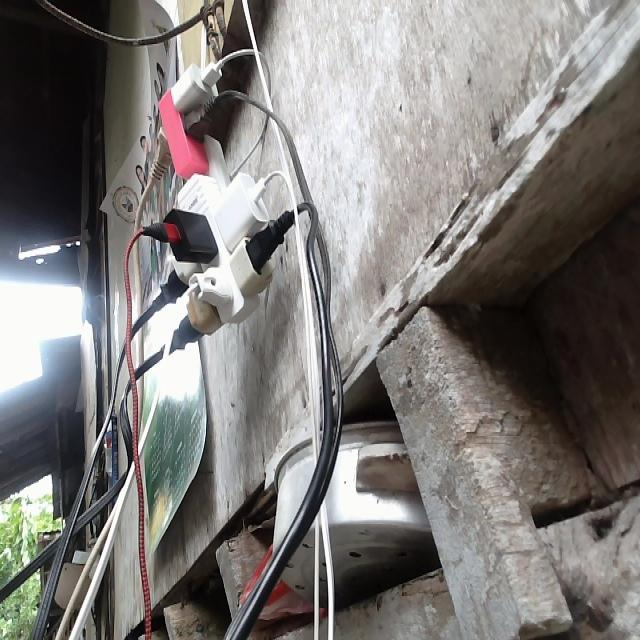-: (143, 59, 272, 345)
